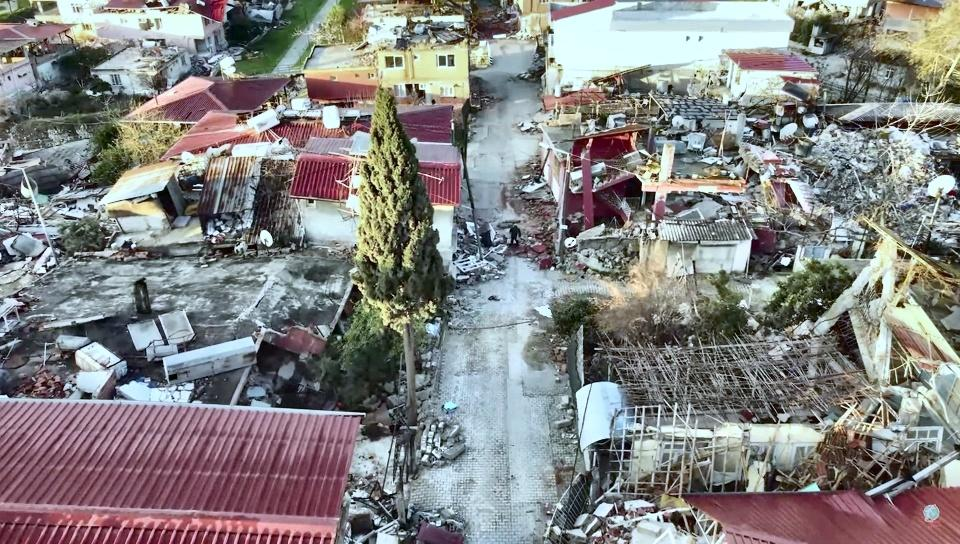kapali: (445, 141, 559, 332)
